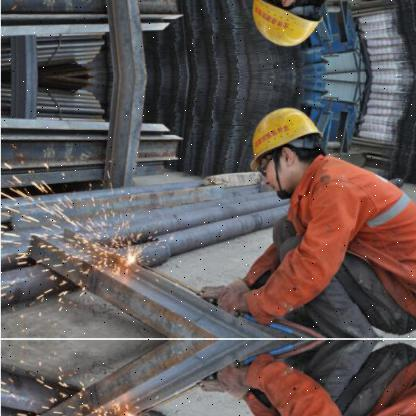helmet: (241, 98, 330, 197), (241, 0, 331, 53)
